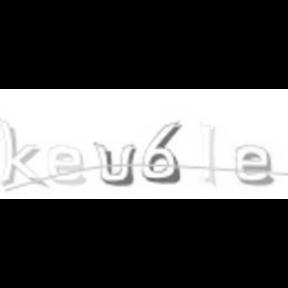6: (138, 120, 184, 184)
I: (196, 118, 218, 184)
e: (232, 142, 274, 188), (46, 144, 88, 188)
k: (0, 121, 42, 189)
u: (92, 140, 138, 186)
